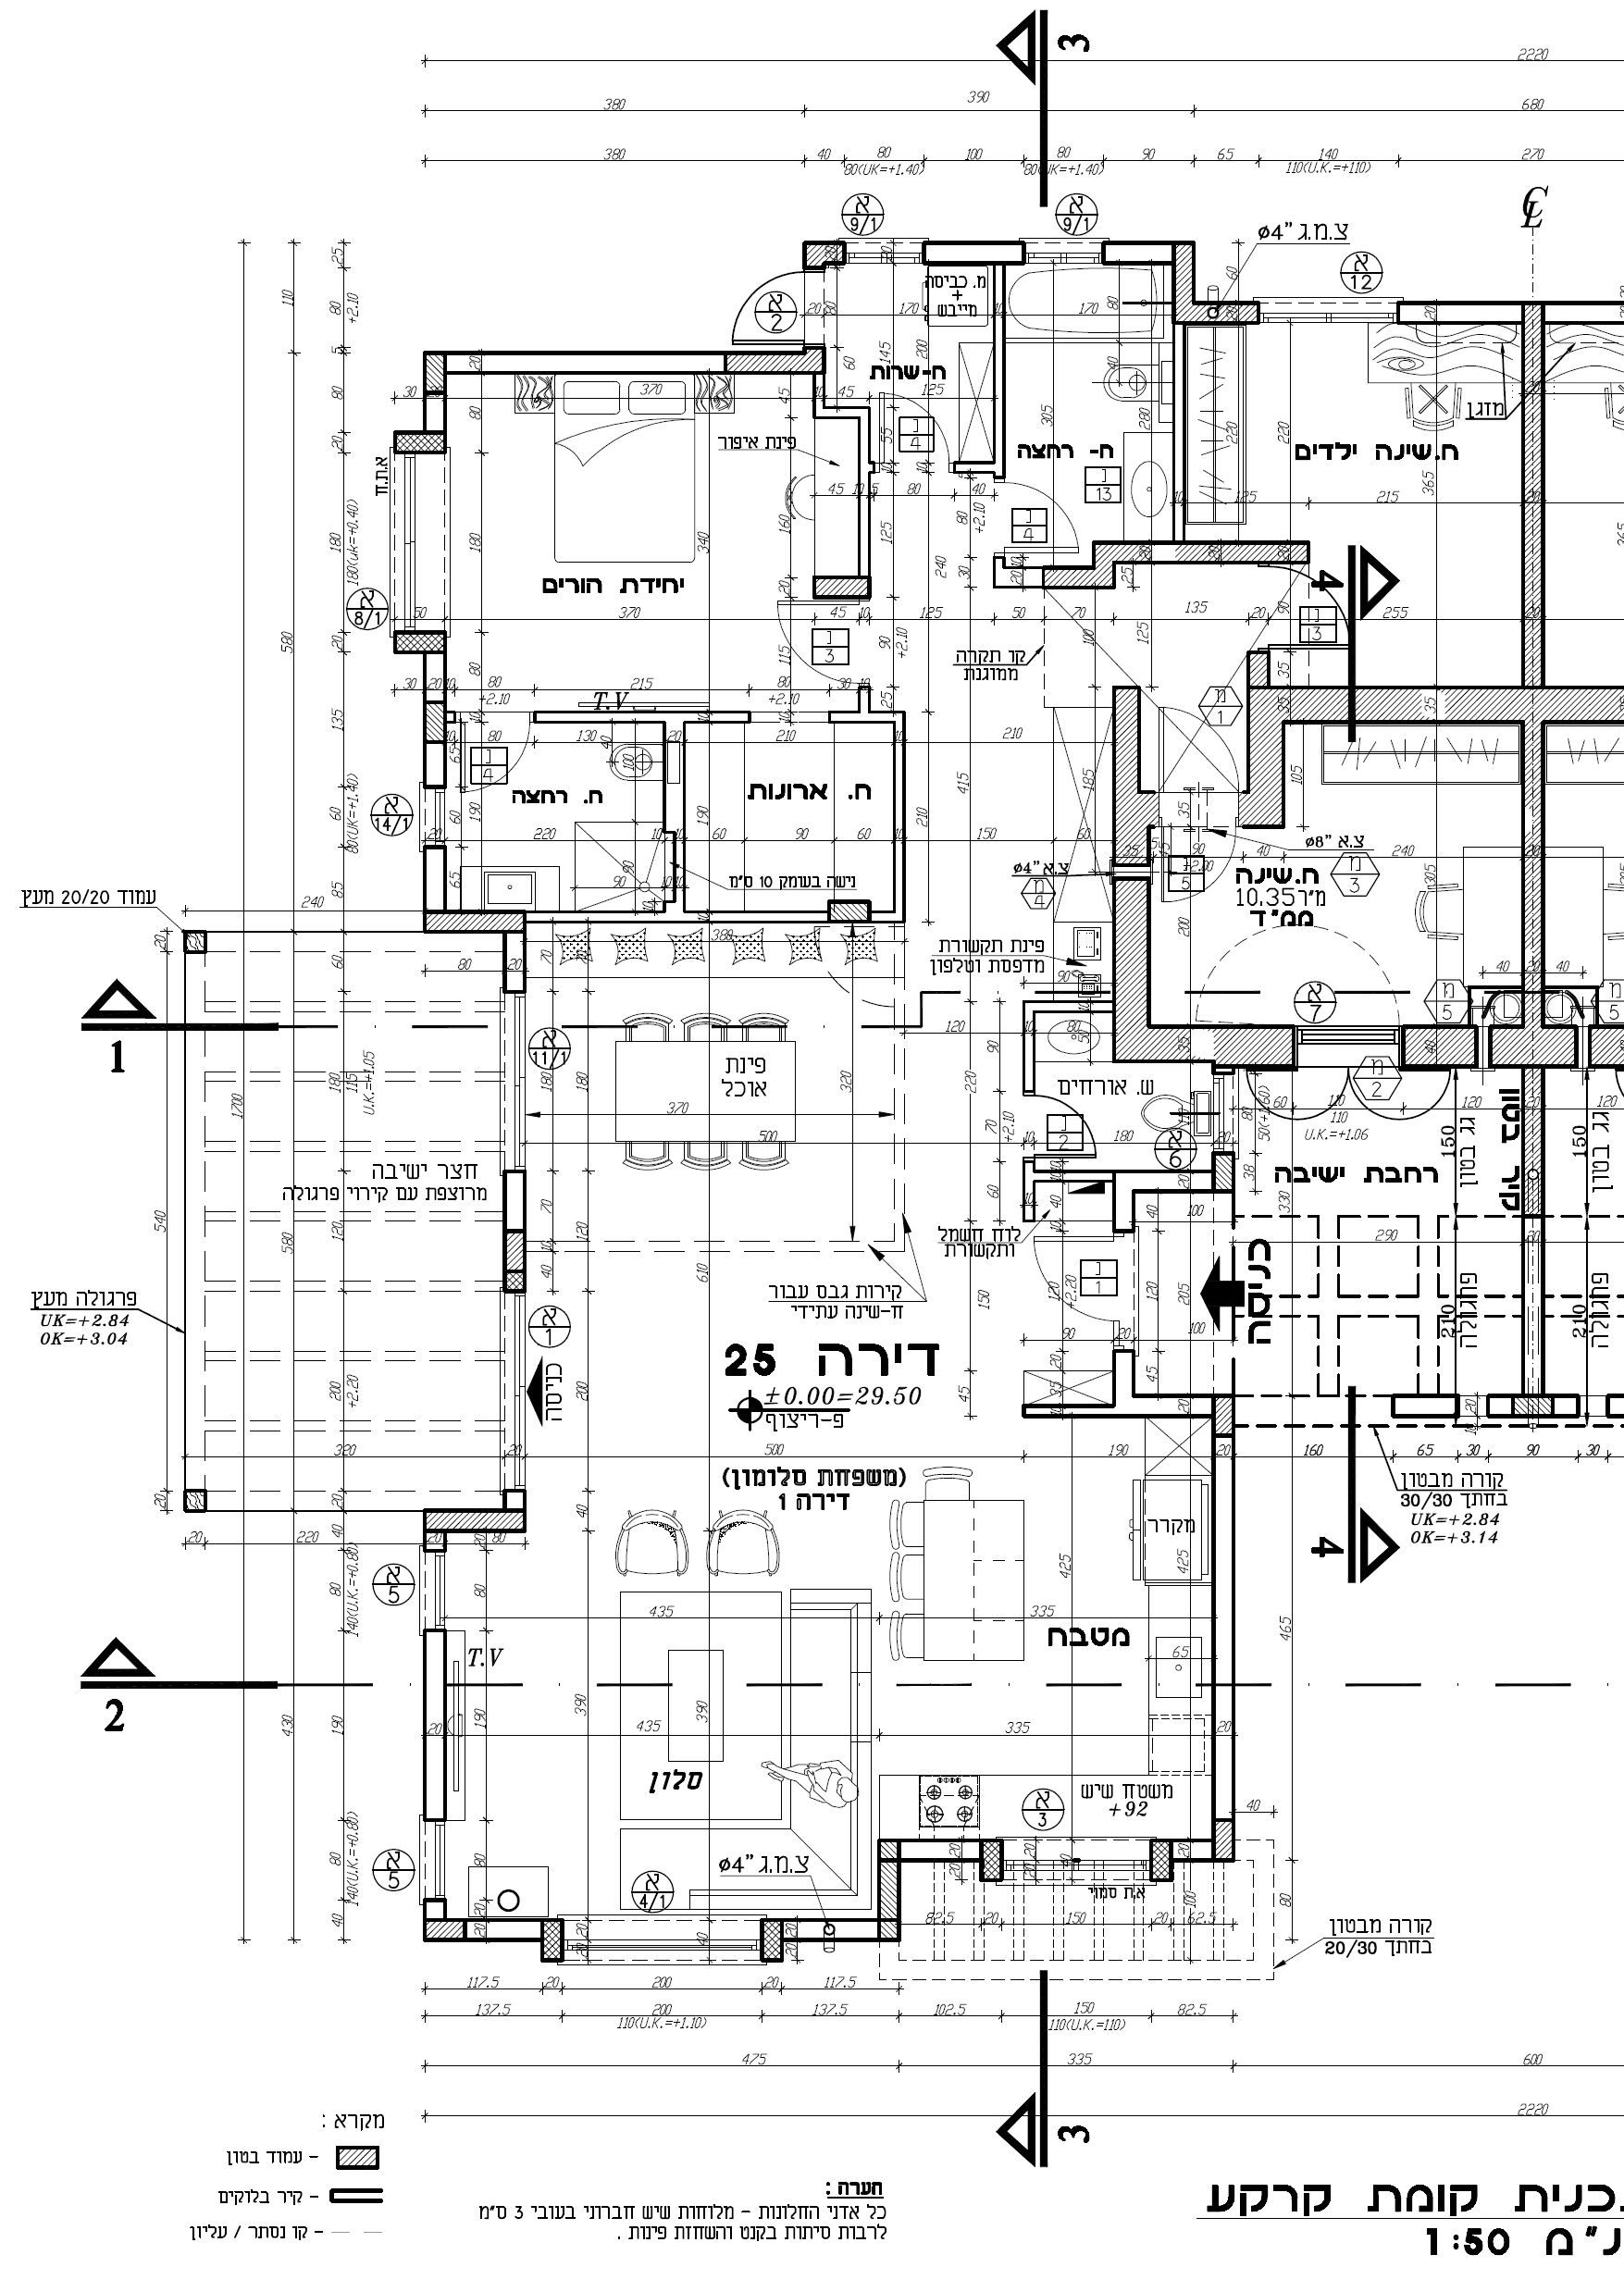wall: (1355, 687, 1624, 722), (1355, 687, 1552, 733), (1114, 877, 1151, 1062), (1113, 689, 1142, 865)
window: (388, 452, 450, 631), (562, 1912, 761, 1965), (1000, 1837, 1153, 1886), (497, 1290, 527, 1492), (499, 990, 527, 1169), (1295, 1025, 1403, 1069), (1258, 301, 1396, 323), (1213, 1074, 1241, 1151), (420, 1550, 446, 1631), (420, 1819, 446, 1900), (844, 241, 923, 265), (1023, 241, 1102, 265), (418, 786, 446, 847)
